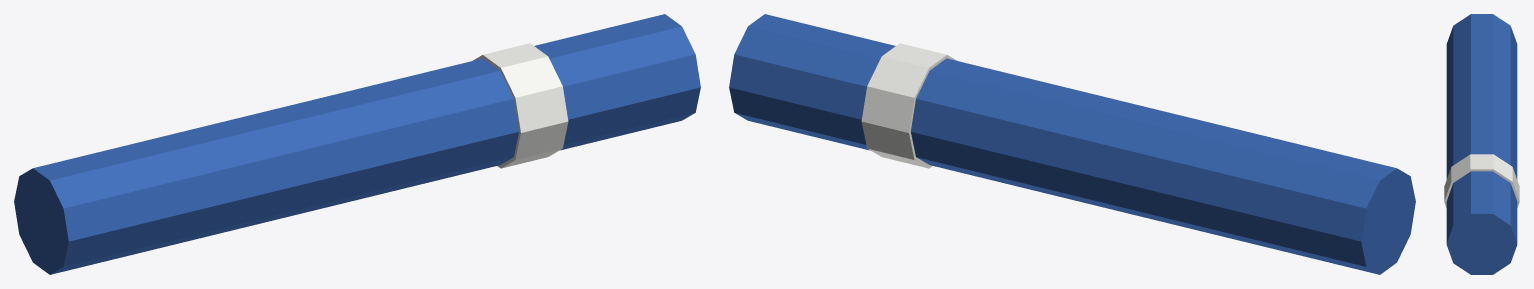
The model's file is floor_plan.glb.
The picture shows the model from 3 angles, left to right: view 1: azimuth 30°, elevation 25°; view 2: azimuth 150°, elevation 25°; view 3: azimuth 270°, elevation 25°; orthographic projection. The views are drawn at different scales.
Parts seen in each view (by area): view 1: roll_plan_blue, band_plan_band; view 2: roll_plan_blue, band_plan_band; view 3: roll_plan_blue, band_plan_band.
Boxes of the visible parts, left/top/right/bottom form: roll_plan_blue: left=14, top=14, right=700, bottom=274; band_plan_band: left=472, top=43, right=568, bottom=168; roll_plan_blue: left=729, top=14, right=1415, bottom=274; band_plan_band: left=861, top=43, right=957, bottom=168; roll_plan_blue: left=1446, top=14, right=1517, bottom=274; band_plan_band: left=1444, top=154, right=1519, bottom=207.
Size of the model in its own units: 0.4 by 0.0609 by 0.064.
